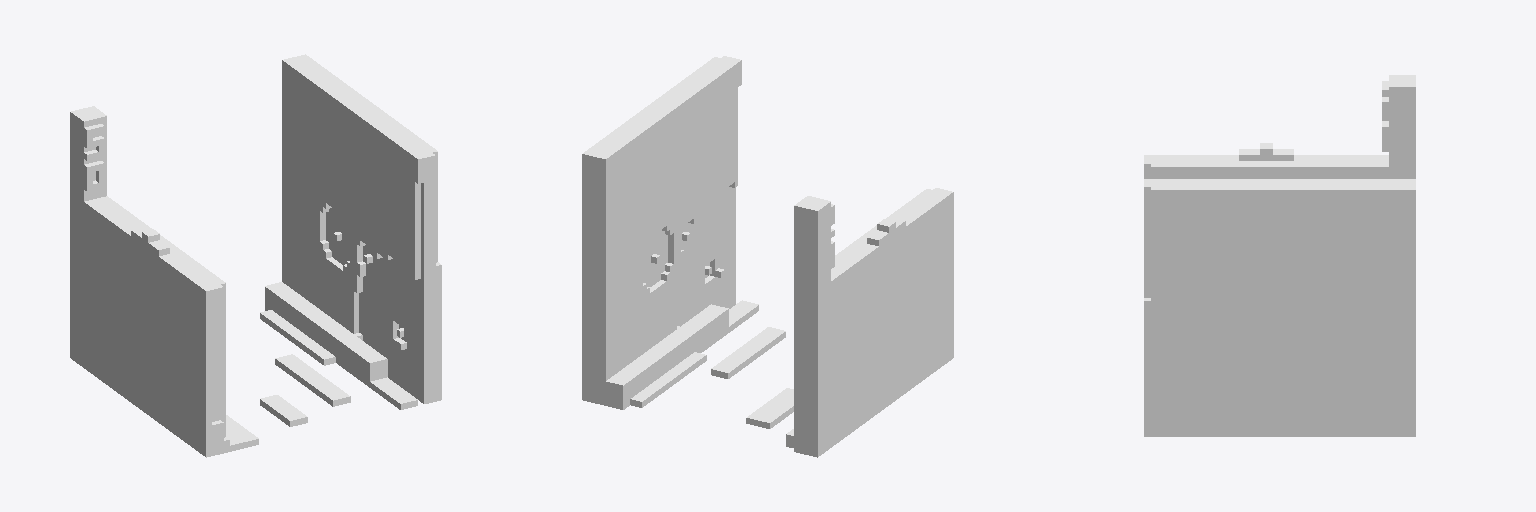
File: Ruin.obj
3 views of the same model, side by side, from view 1: azimuth 30°, elevation 25°; view 2: azimuth 150°, elevation 25°; view 3: azimuth 270°, elevation 25° (orthographic).
Visible parts, largest first — view 1: object 1; view 2: object 1; view 3: object 1.
Boxes of the visible parts, x1=… form: object 1: x1=70, y1=54, x2=441, y2=457; object 1: x1=582, y1=56, x2=953, y2=457; object 1: x1=1144, y1=75, x2=1415, y2=436.
Bounding box in the file's own units: 4 × 4 × 4.